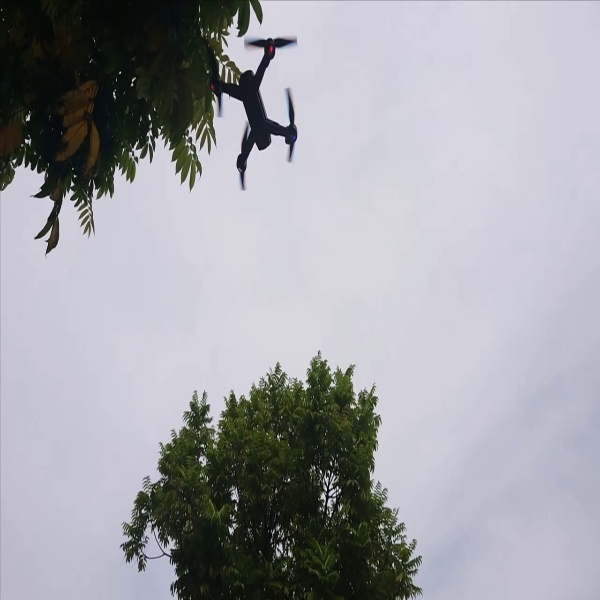drone: (198, 29, 316, 195)
